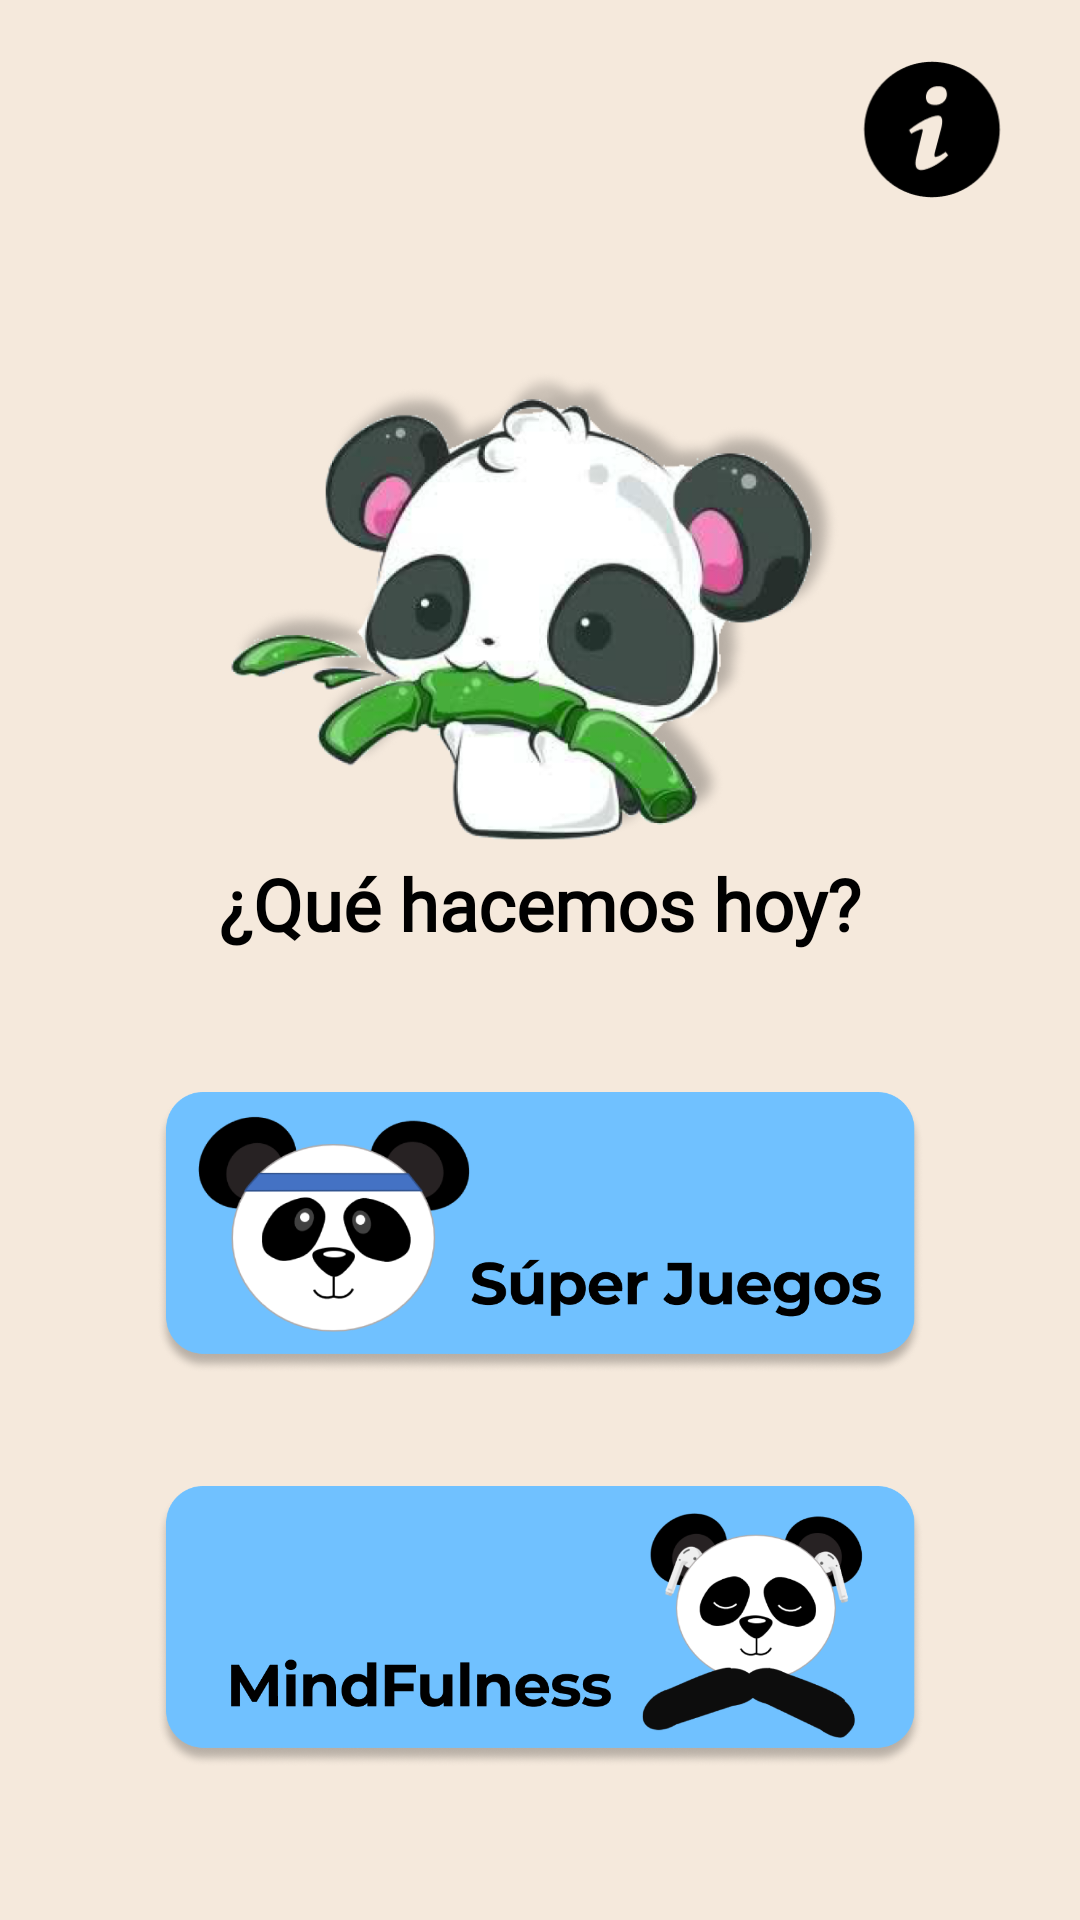

Screen size 1080px×1920px. Icon name, then its box in pixels as Rect(x1, y1, x2, y2):
about: Rect(863, 61, 1001, 198)
